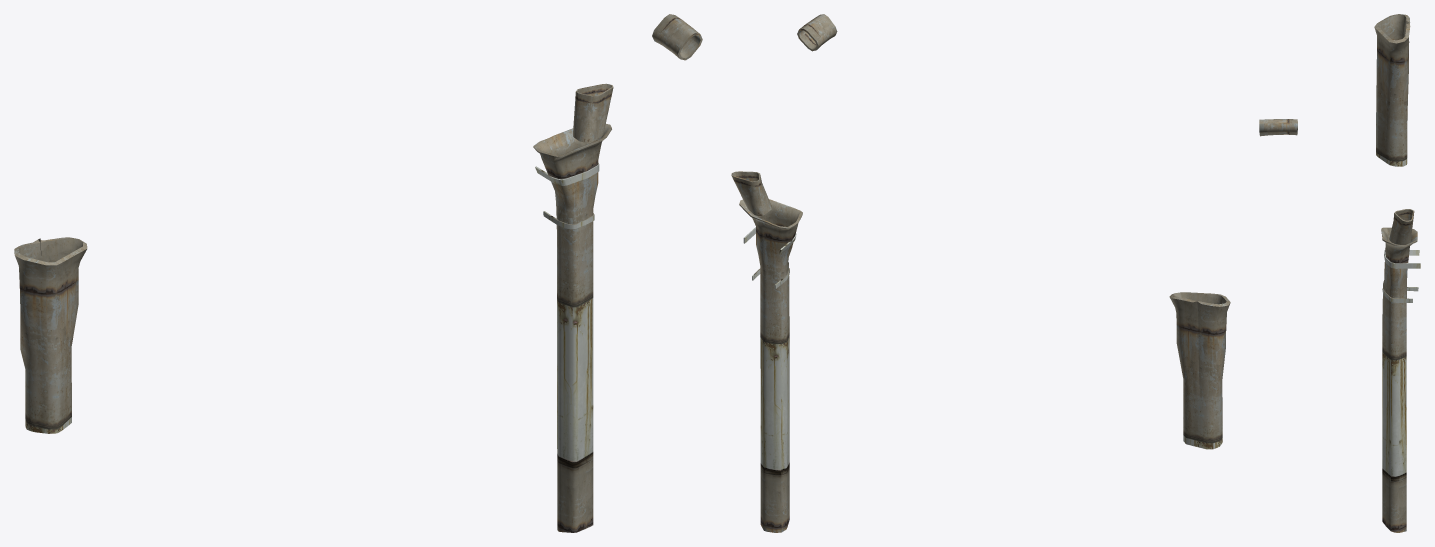
The model's file is Corridor_01_25.fbx.
The picture shows the model from 3 angles, left to right: view 1: azimuth 30°, elevation 25°; view 2: azimuth 150°, elevation 25°; view 3: azimuth 270°, elevation 25°; orthographic projection. The views are drawn at different scales.
Parts seen in each view (by area): view 1: Corridor_01_25; view 2: Corridor_01_25; view 3: Corridor_01_25.
Boxes of the visible parts, x1,y1,x2,y2 form: Corridor_01_25: [14, 14, 702, 532]; Corridor_01_25: [731, 14, 1230, 532]; Corridor_01_25: [1259, 14, 1420, 532].
Size of the model in its own units: 1117 by 987 by 343.
